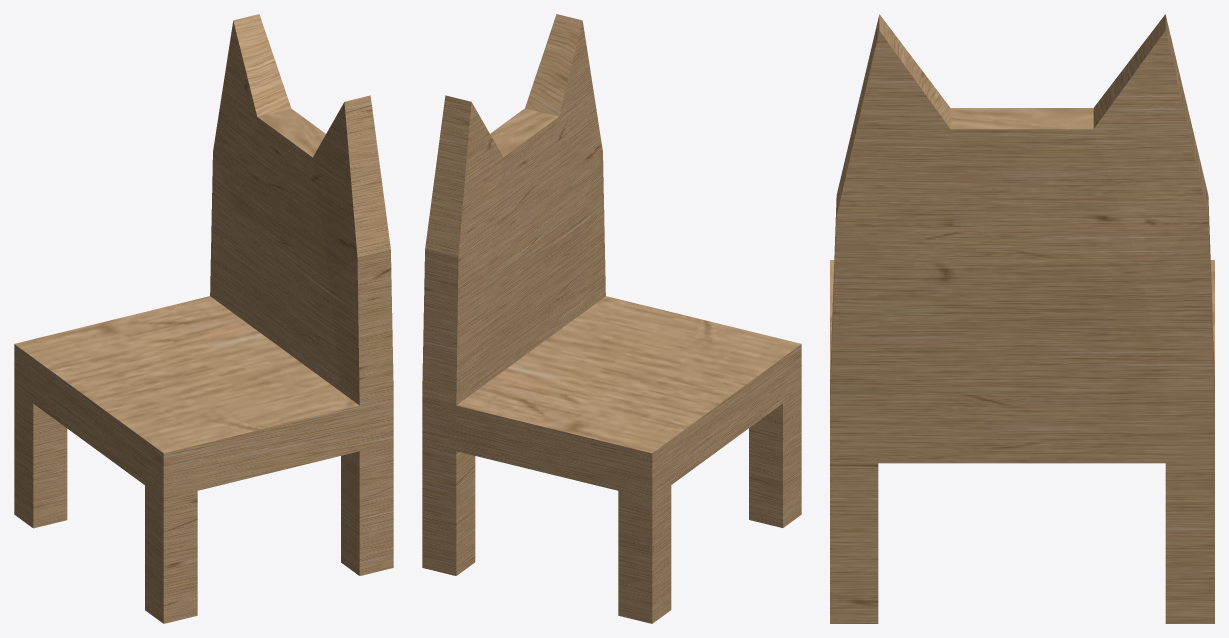
The model's file is Silla michi.fbx.
The picture shows the model from 3 angles, left to right: view 1: azimuth 30°, elevation 25°; view 2: azimuth 150°, elevation 25°; view 3: azimuth 270°, elevation 25°; orthographic projection. The views are drawn at different scales.
Parts seen in each view (by area): view 1: Cube; view 2: Cube; view 3: Cube.
Boxes of the visible parts, box(x1,y1,x2,y2) form: Cube: box(14, 14, 393, 623); Cube: box(422, 14, 801, 623); Cube: box(830, 14, 1214, 623).
Size of the model in its own units: 204 by 386 by 228.
Materials: 1 (1 with a texture image).
